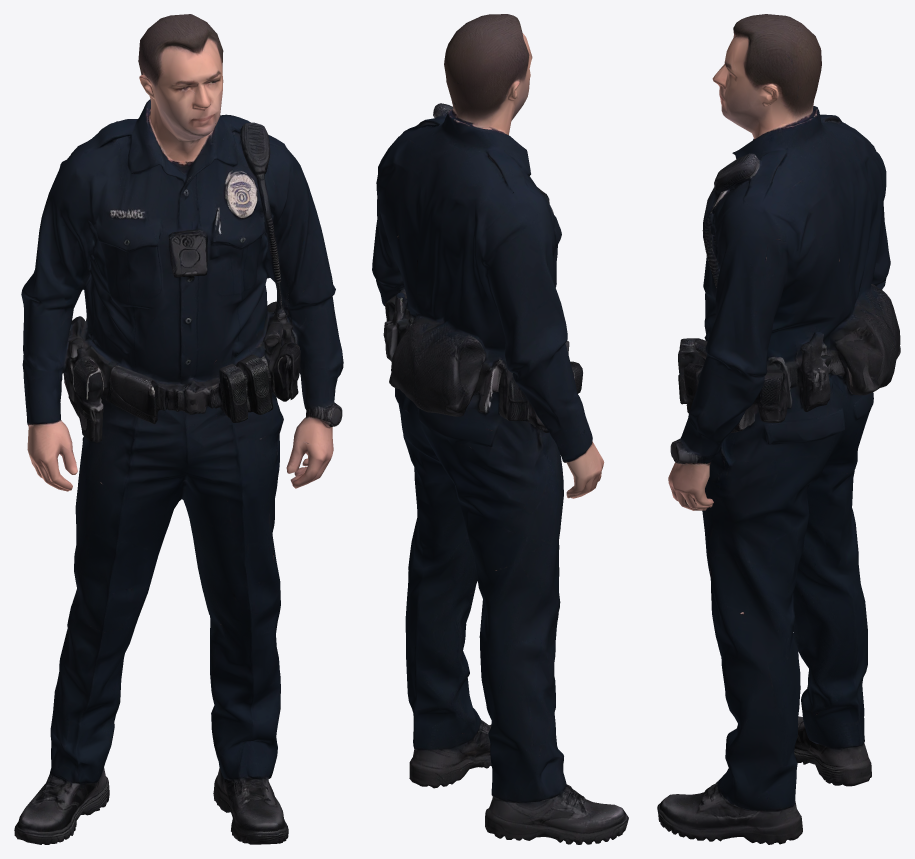
File: police_officer.glb
3 views of the same model, side by side, from view 1: azimuth 30°, elevation 25°; view 2: azimuth 150°, elevation 25°; view 3: azimuth 270°, elevation 25° (orthographic). The views are drawn at different scales.
Bounding box in the file's own units: 0.7113 × 1.9 × 0.5302.
Materials: 1 (1 with a texture image).
